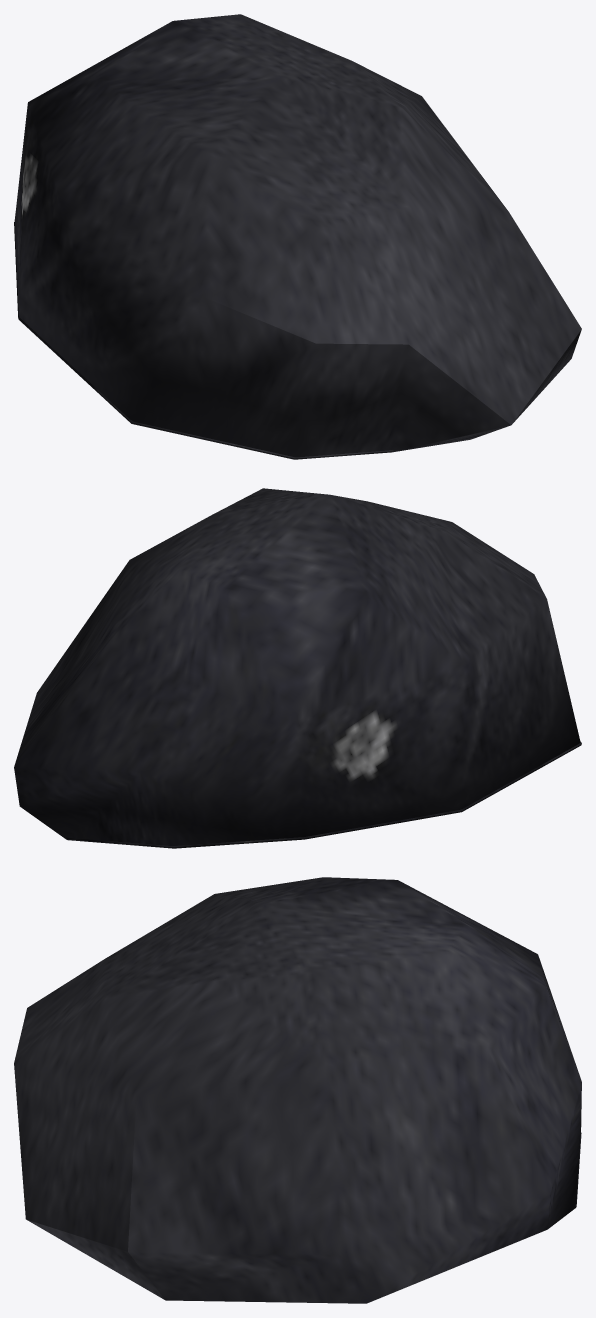
Rendered from Hat_brit_baret.fbx.
The picture shows the model from 3 angles, top to bottom: view 1: azimuth 30°, elevation 25°; view 2: azimuth 150°, elevation 25°; view 3: azimuth 270°, elevation 25°; orthographic projection. The views are drawn at different scales.
Parts seen in each view (by area): view 1: b_en_hat2; view 2: b_en_hat2; view 3: b_en_hat2.
Boxes of the visible parts, left/top/right/bottom form: b_en_hat2: left=14, top=14, right=581, bottom=459; b_en_hat2: left=14, top=488, right=581, bottom=848; b_en_hat2: left=14, top=877, right=581, bottom=1303.
Size of the model in its own units: 20.24 by 12.81 by 22.23.
